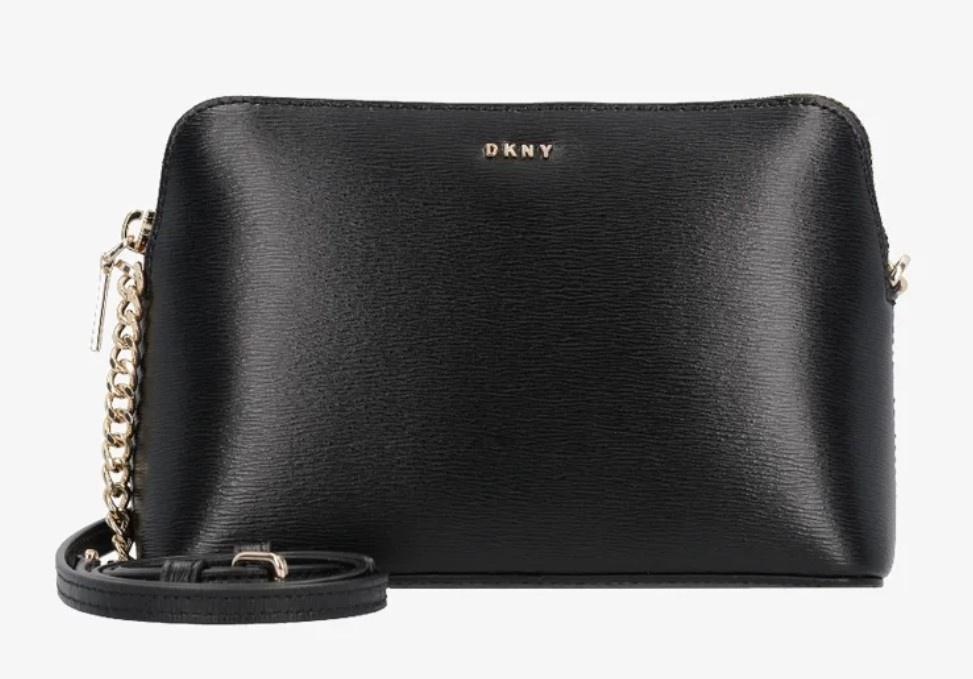DKNY: (486, 143, 553, 158)
